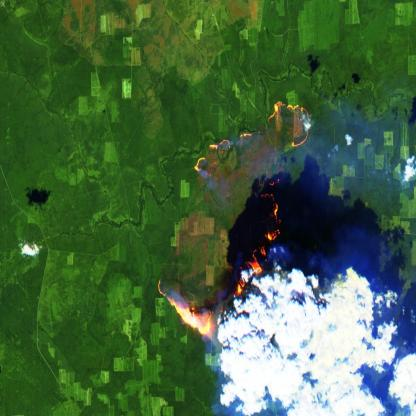fire: (154, 97, 312, 341)
